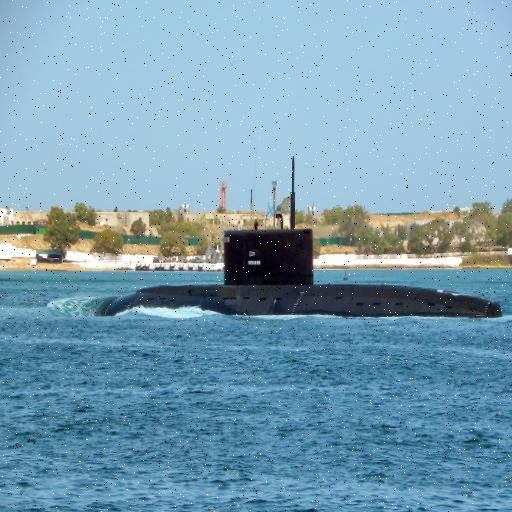submarine: (102, 229, 512, 316)
